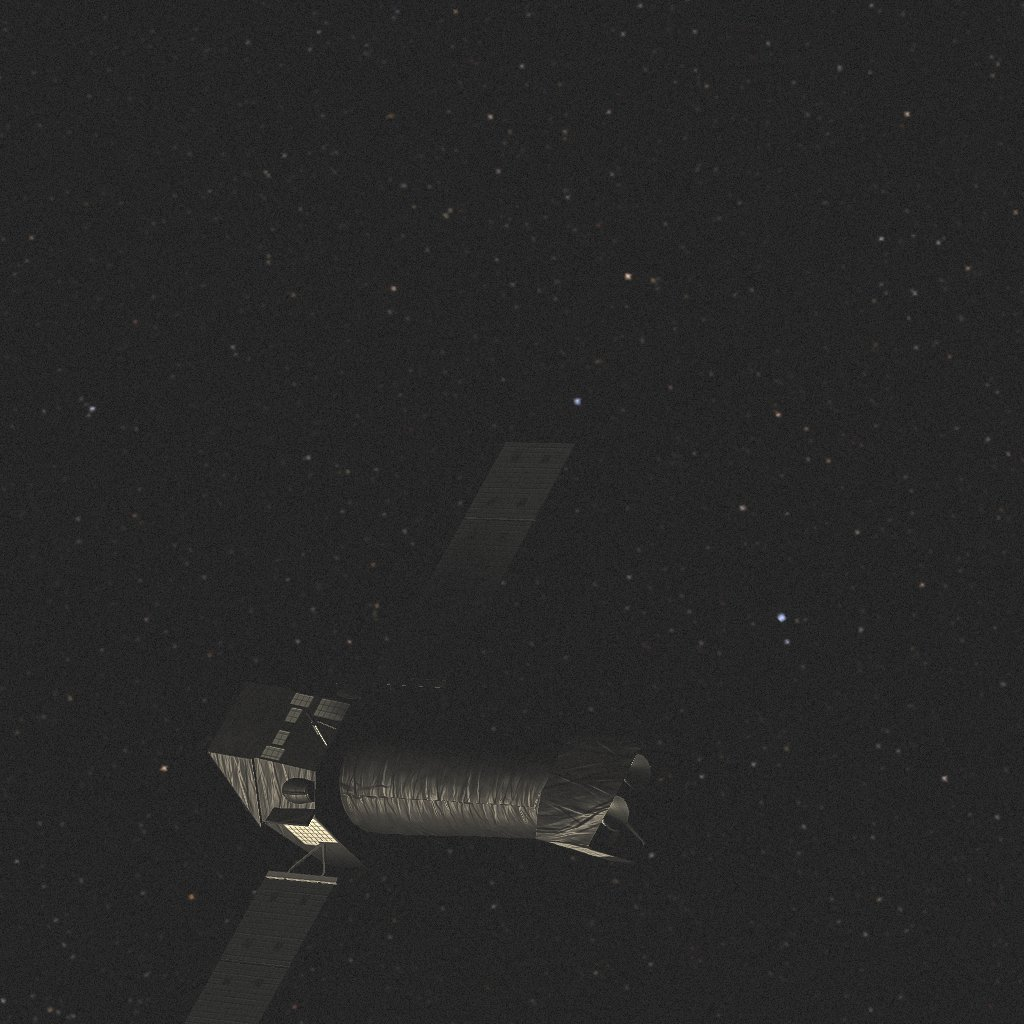xmm_newton: (184, 442, 667, 1024)
